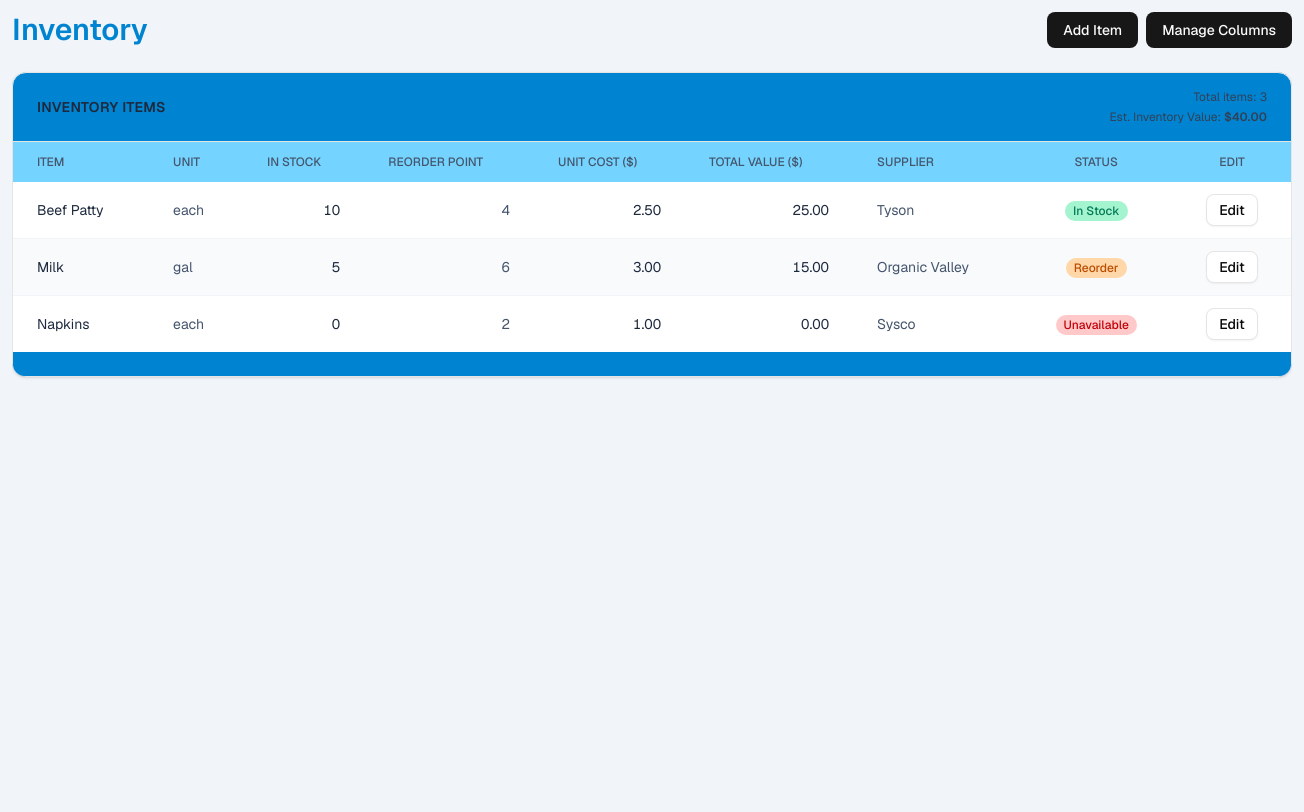
Test: InventoryPage › opens and closes the add item form
Expected: the text "Beef Patty" is shown, [13,182,149,238]
Click the button "Add Item" at (1093, 30), box [1047,12,1138,48]
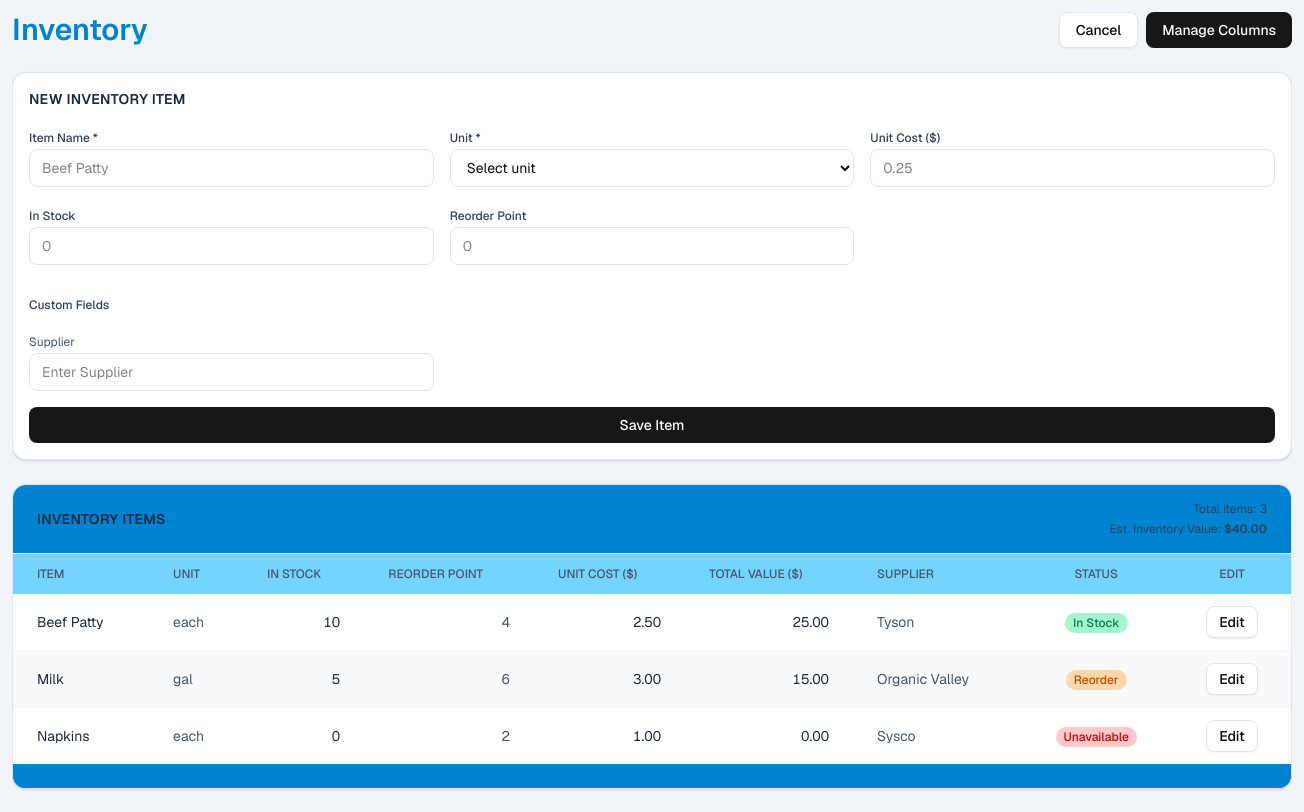
Now the heading "New Inventory Item" is shown, box [29,90,186,108]
Click the button "Cancel" at (1098, 30), box [1059,12,1138,48]
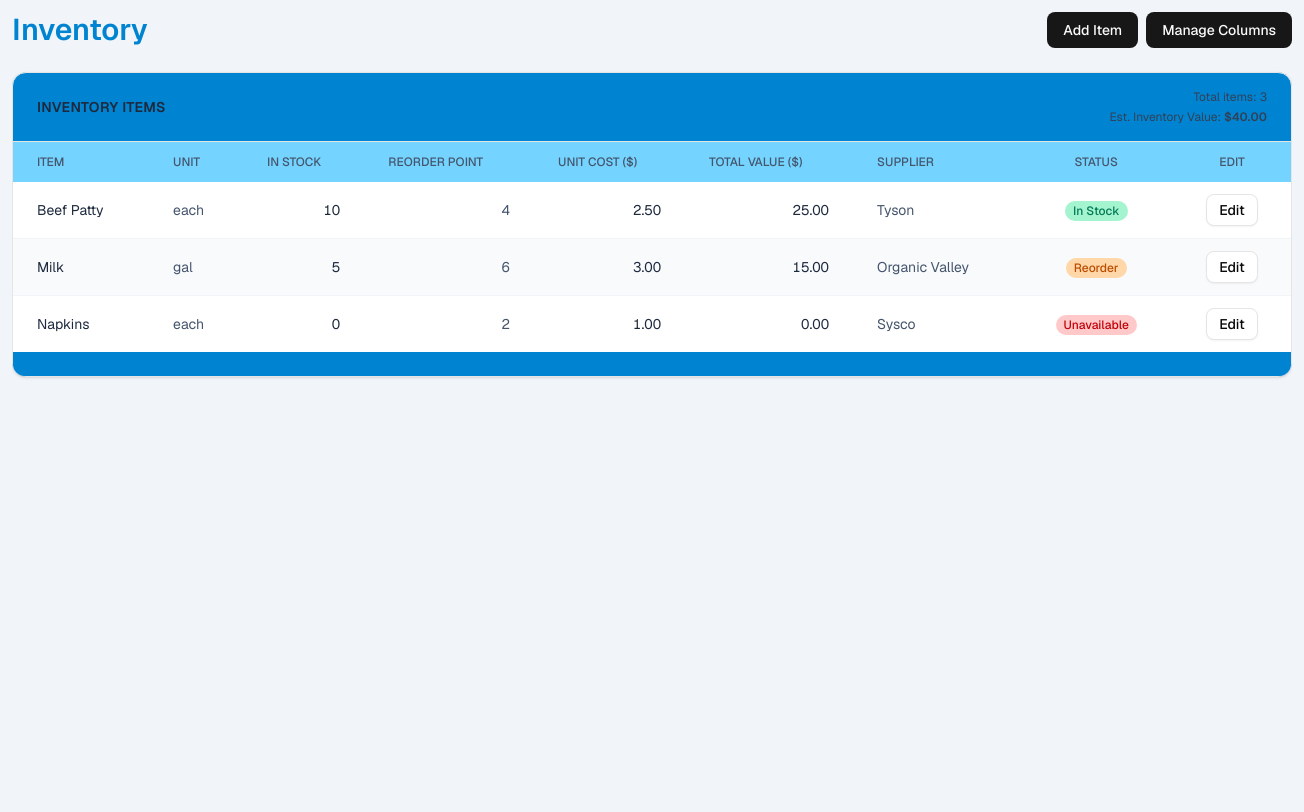
Now the heading "New Inventory Item" is gone
